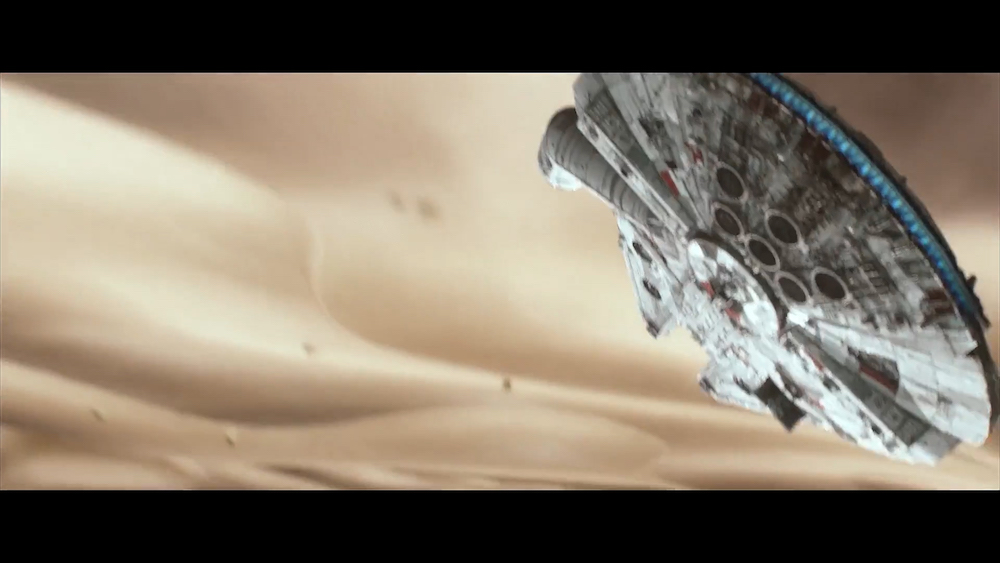Millennium Falcon: (538, 74, 1000, 468)
